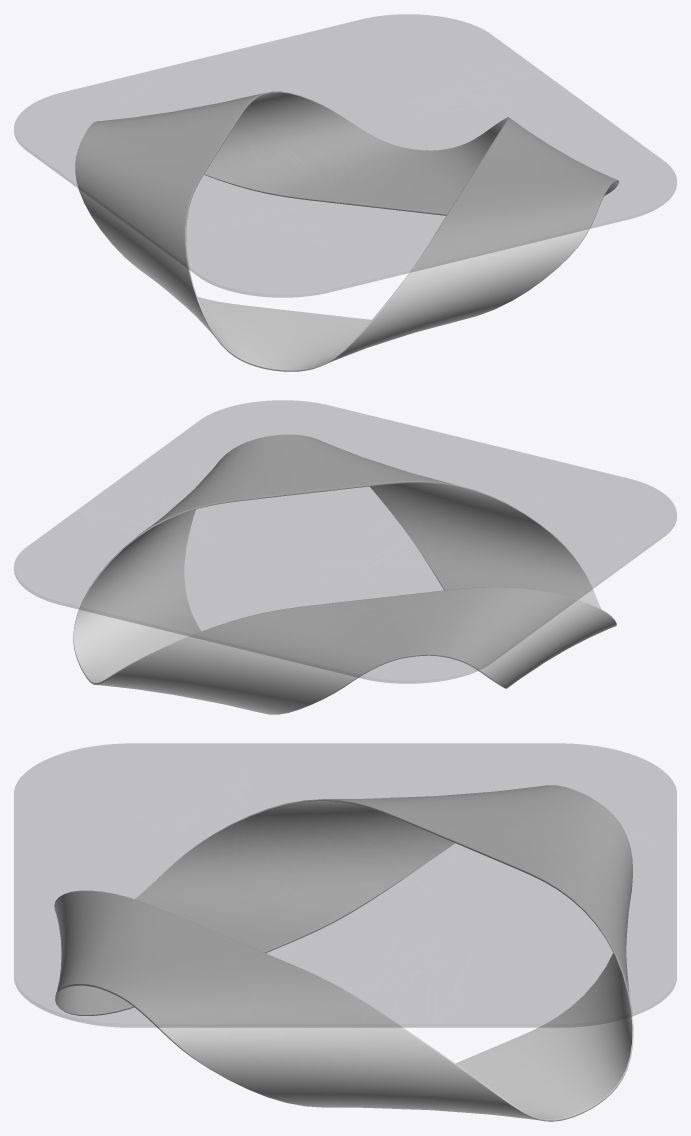
The model's file is mobius.gltf.
3 views of the same model, one above another, from view 1: azimuth 30°, elevation 25°; view 2: azimuth 150°, elevation 25°; view 3: azimuth 270°, elevation 25° (orthographic). The views are drawn at different scales.
Visible parts, largest first — view 1: mobiusglass_low, mobiusleg_low; view 2: mobiusglass_low, mobiusleg_low; view 3: mobiusglass_low, mobiusleg_low.
Boxes of the visible parts, left/top/right/bottom form: mobiusglass_low: left=14, top=14, right=676, bottom=297; mobiusleg_low: left=75, top=91, right=618, bottom=371; mobiusglass_low: left=14, top=400, right=676, bottom=683; mobiusleg_low: left=73, top=434, right=616, bottom=714; mobiusglass_low: left=14, top=743, right=676, bottom=1027; mobiusleg_low: left=54, top=785, right=633, bottom=1121.
Bounding box in the file's own units: 1.2 × 0.2652 × 1.2.
Materials: 2 (2 with a texture image).
